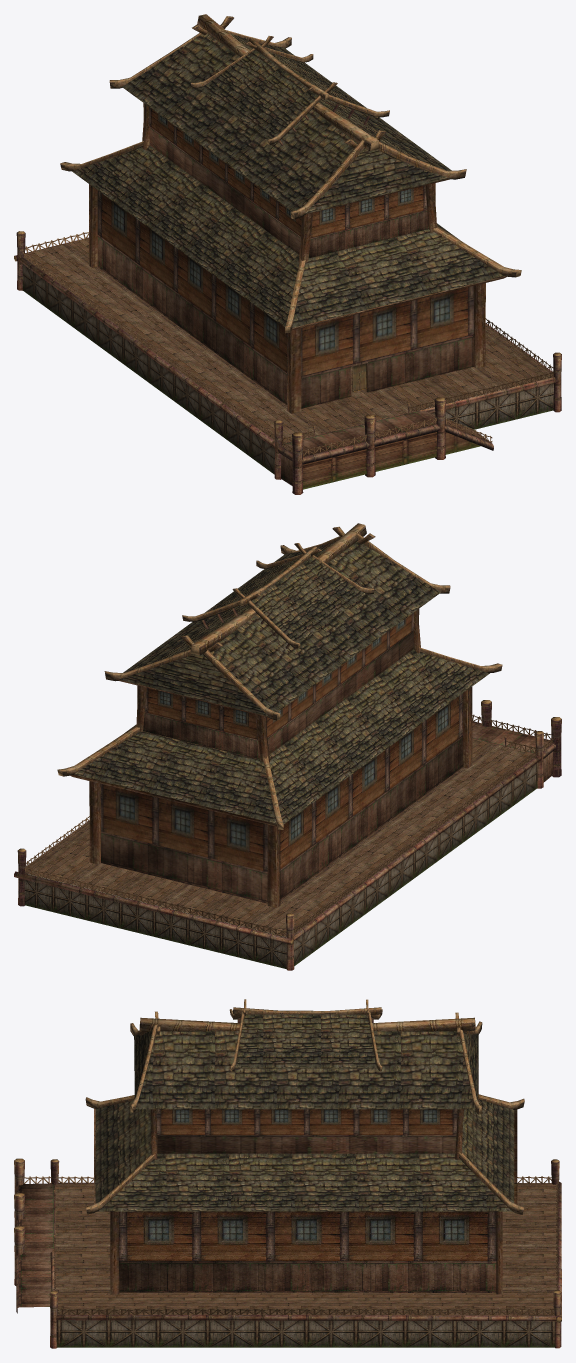
File: cj_thiefvill_house_04_01.glb
3 renders of one model, top to bottom at view 1: azimuth 30°, elevation 25°; view 2: azimuth 150°, elevation 25°; view 3: azimuth 270°, elevation 25°, orthographic. The views are drawn at different scales.
Visible parts, largest first — view 1: cj_thiefvill_house_04_04, cj_thiefvill_house_04_07, cj_thiefvill_house_04_06, cj_thiefvill_house_04_09, cj_thiefvill_house_04_08, cj_thiefvill_house_04_05, cj_thiefvill_house_04_02; view 2: cj_thiefvill_house_04_04, cj_thiefvill_house_04_07, cj_thiefvill_house_04_06, cj_thiefvill_house_04_08, cj_thiefvill_house_04_09, cj_thiefvill_house_04_02; view 3: cj_thiefvill_house_04_04, cj_thiefvill_house_04_07, cj_thiefvill_house_04_06, cj_thiefvill_house_04_08, cj_thiefvill_house_04_09, cj_thiefvill_house_04_02.
Part boxes in pixels (bbox=[...]): cj_thiefvill_house_04_04: bbox=[72, 33, 504, 375]; cj_thiefvill_house_04_07: bbox=[14, 74, 561, 494]; cj_thiefvill_house_04_06: bbox=[23, 238, 553, 442]; cj_thiefvill_house_04_09: bbox=[60, 14, 521, 413]; cj_thiefvill_house_04_08: bbox=[22, 264, 553, 474]; cj_thiefvill_house_04_05: bbox=[303, 432, 480, 489]; cj_thiefvill_house_04_02: bbox=[22, 232, 554, 456]; cj_thiefvill_house_04_04: bbox=[74, 542, 489, 871]; cj_thiefvill_house_04_07: bbox=[14, 580, 561, 970]; cj_thiefvill_house_04_06: bbox=[25, 738, 536, 936]; cj_thiefvill_house_04_08: bbox=[24, 762, 537, 968]; cj_thiefvill_house_04_09: bbox=[57, 523, 502, 907]; cj_thiefvill_house_04_02: bbox=[24, 714, 554, 935]; cj_thiefvill_house_04_04: bbox=[95, 1014, 514, 1260]; cj_thiefvill_house_04_07: bbox=[14, 1017, 561, 1348]; cj_thiefvill_house_04_06: bbox=[55, 1183, 557, 1315]; cj_thiefvill_house_04_08: bbox=[56, 1315, 555, 1347]; cj_thiefvill_house_04_09: bbox=[85, 999, 524, 1294]; cj_thiefvill_house_04_02: bbox=[24, 1176, 558, 1314].
Size of the model in its own units: 40.72 by 39.79 by 69.46.
Materials: 8 (8 with a texture image).
